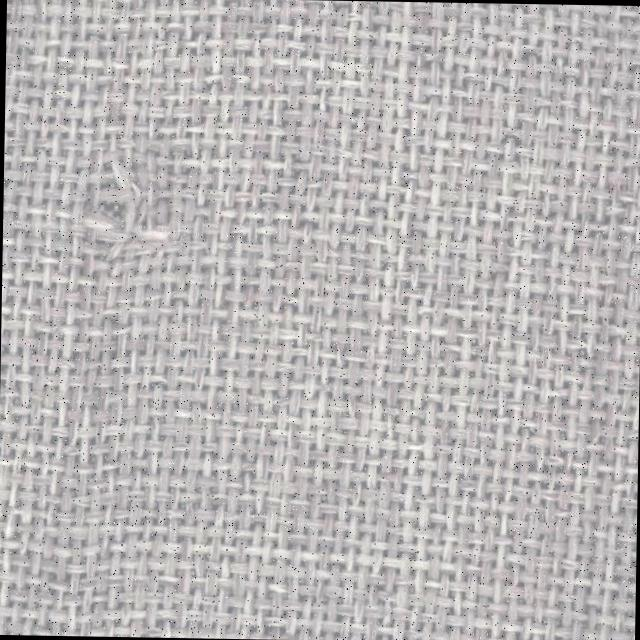hole: (80, 172, 170, 252)
